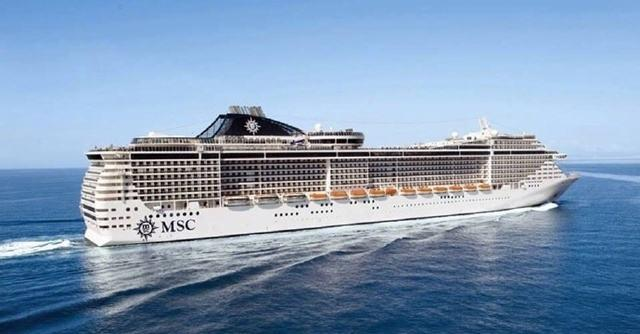youlun: (79, 104, 579, 248)
